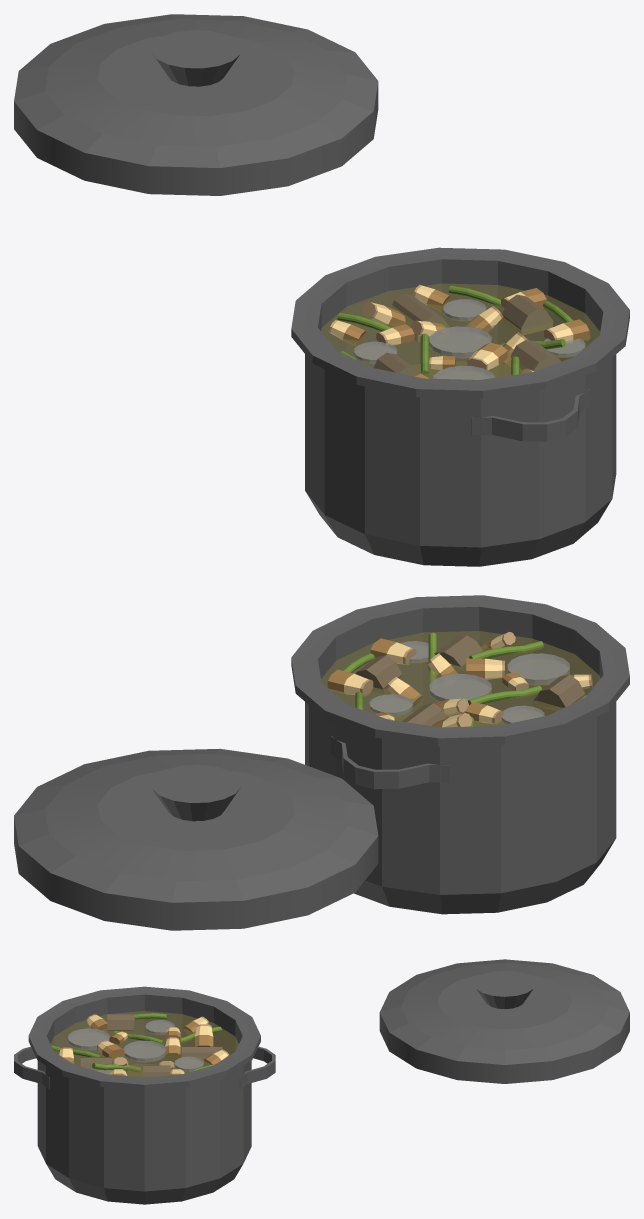
File: sinigang.fbx
3 renders of one model, top to bottom at view 1: azimuth 30°, elevation 25°; view 2: azimuth 150°, elevation 25°; view 3: azimuth 270°, elevation 25°, orthographic. The views are drawn at different scales.
Parts seen in each view (by area): view 1: pCylinder23, pCylinder2; view 2: pCylinder23, pCylinder2; view 3: pCylinder23, pCylinder2.
Part boxes in pixels (<box>): pCylinder23: <box>291,247,629,566</box>; pCylinder2: <box>14,14,378,195</box>; pCylinder23: <box>291,595,629,914</box>; pCylinder2: <box>14,748,378,930</box>; pCylinder23: <box>14,986,275,1204</box>; pCylinder2: <box>379,959,629,1083</box>.
Bounding box in the file's own units: 2.69 × 2.13 × 6.61.
